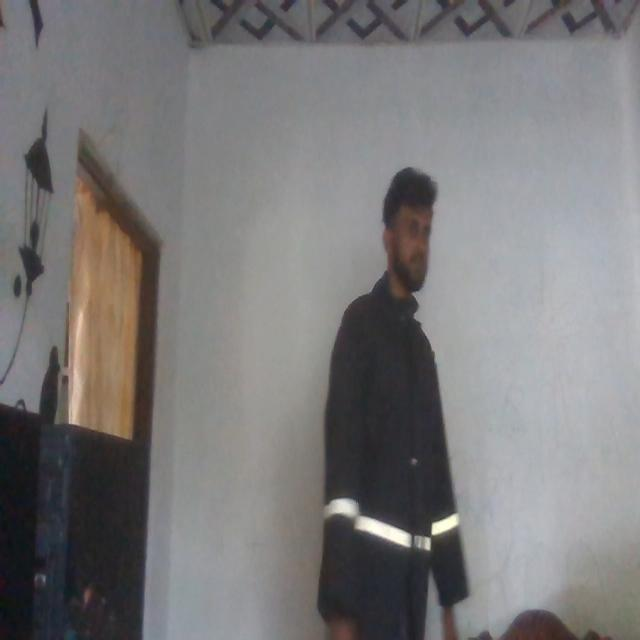Jacket_Wearer: (324, 268, 462, 632)
Person: (322, 158, 472, 640)
